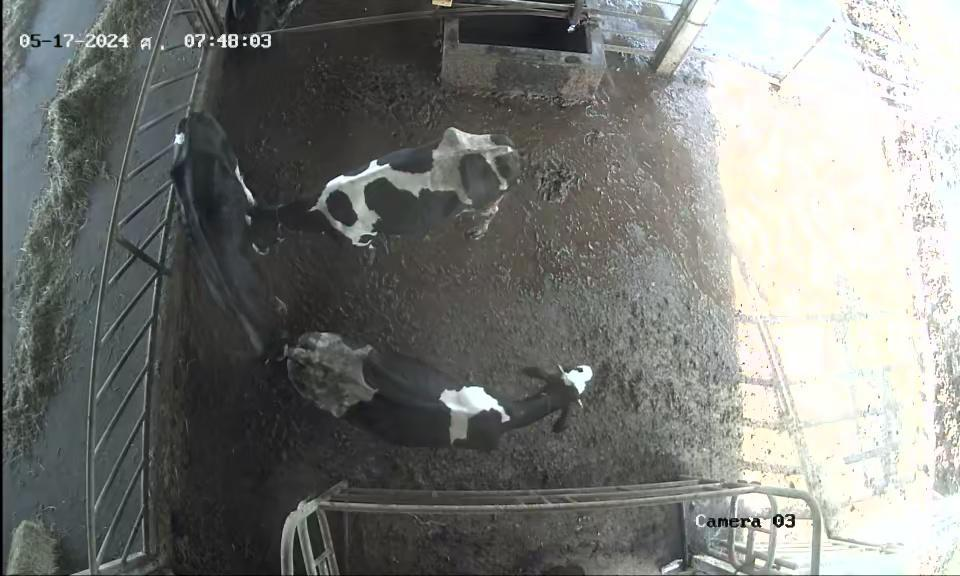stand: (243, 117, 533, 288), (287, 321, 602, 457), (164, 99, 292, 381)
